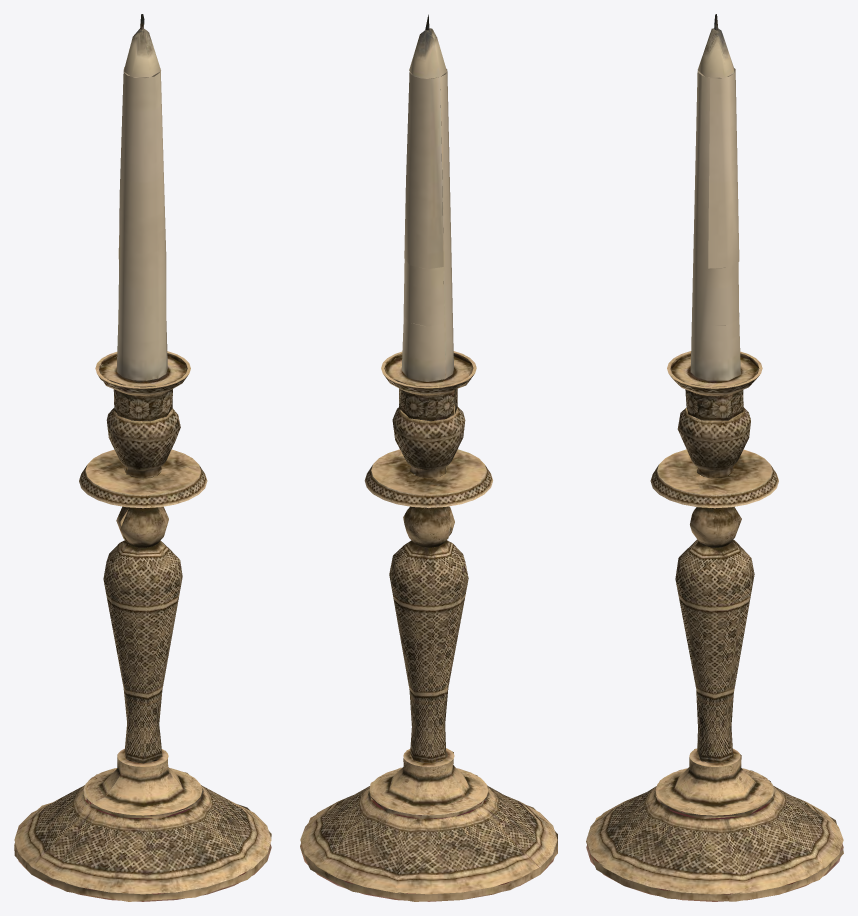
The model's file is candleholder_brass.glb.
3 views of the same model, side by side, from view 1: azimuth 30°, elevation 25°; view 2: azimuth 150°, elevation 25°; view 3: azimuth 270°, elevation 25° (orthographic).
Visible parts, largest first — view 1: brass_candleholder_01; view 2: brass_candleholder_01; view 3: brass_candleholder_01.
Boxes of the visible parts, x1,y1,x2,y2 form: brass_candleholder_01: [14, 14, 271, 901]; brass_candleholder_01: [300, 14, 557, 901]; brass_candleholder_01: [586, 14, 843, 901].
Size of the model in its own units: 0.0974 by 0.3478 by 0.0976.
1 material, 1 textured.
